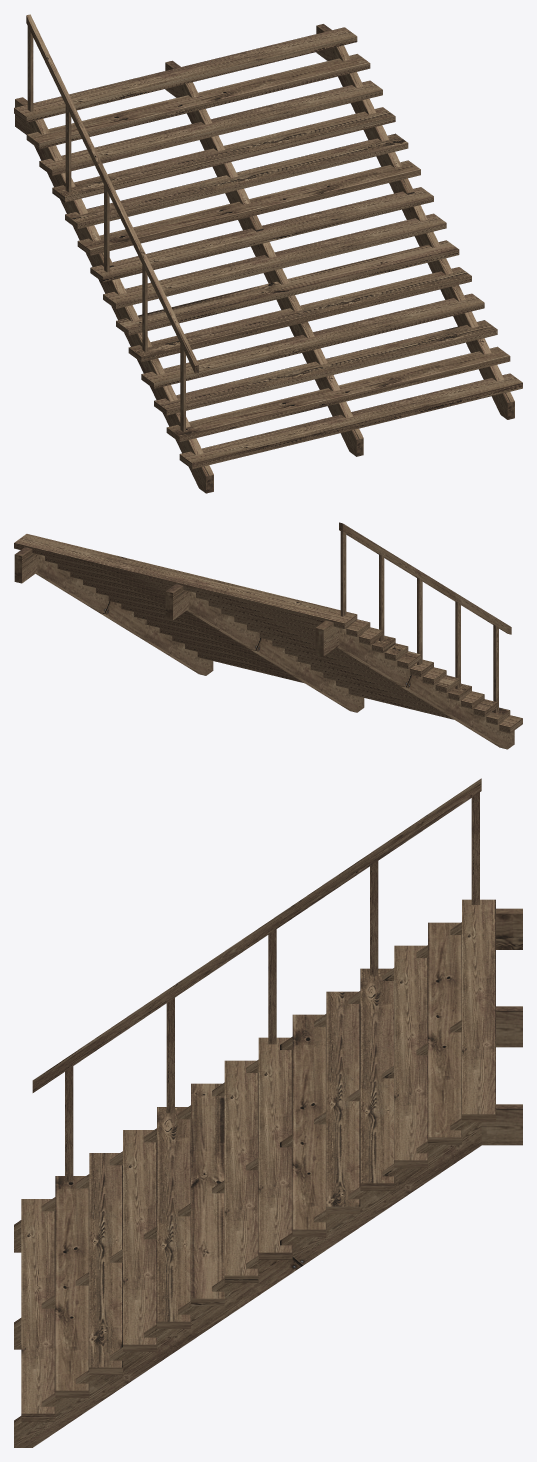
Rendered from wideStaircaseBanisterL.dae.
3 renders of one model, top to bottom at view 1: azimuth 30°, elevation 25°; view 2: azimuth 150°, elevation 25°; view 3: azimuth 270°, elevation 25°, orthographic. The views are drawn at different scales.
Visible parts, largest first — view 1: wideStaircaseBanisterL; view 2: wideStaircaseBanisterL; view 3: wideStaircaseBanisterL.
Part boxes in pixels (bbox=[...]): wideStaircaseBanisterL: bbox=[14, 14, 522, 493]; wideStaircaseBanisterL: bbox=[14, 522, 522, 749]; wideStaircaseBanisterL: bbox=[14, 778, 522, 1447].
Size of the model in its own units: 4 by 4.05 by 4.01.
Materials: 1 (1 with a texture image).
